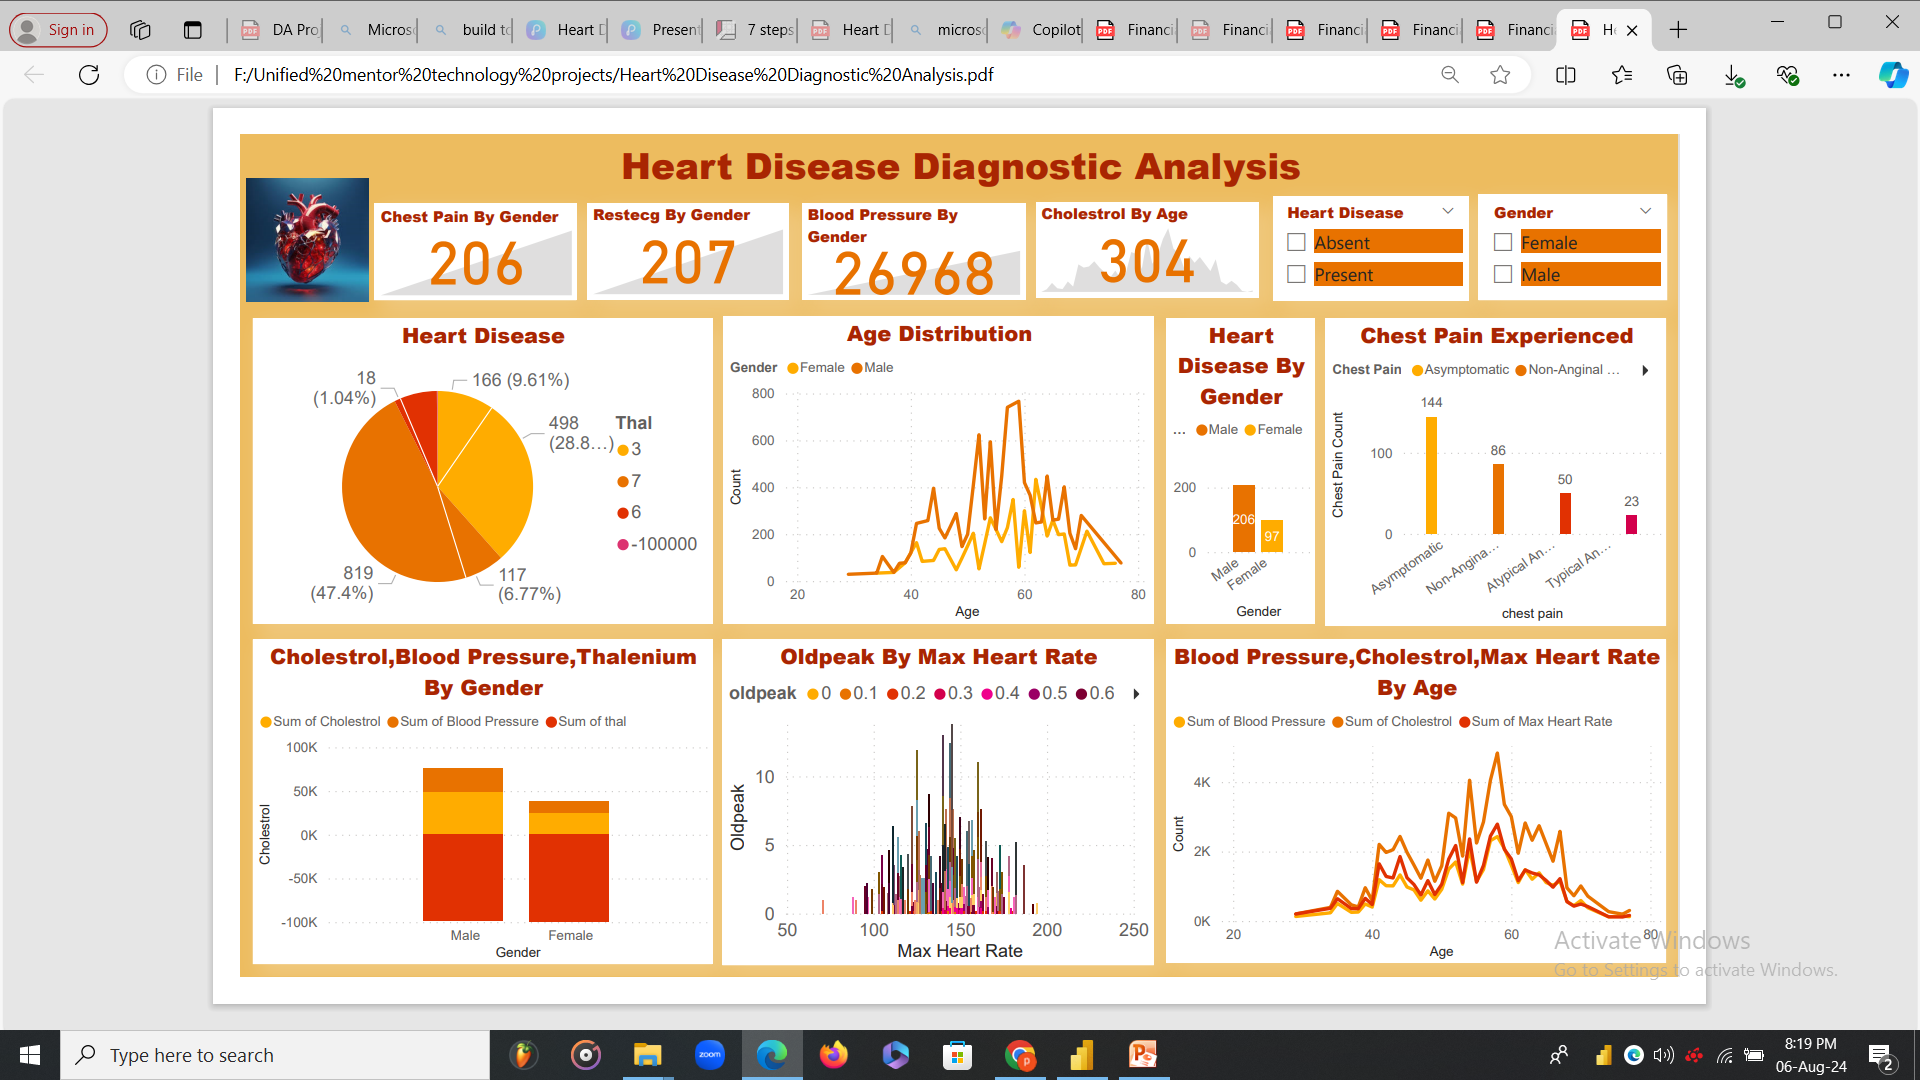

The dashboard page shown, as its layout file describes it:
{"tool":"powerbi","page":{"name":"Heart Disease  Analysis ","canvas":[1280,750],"ordinal":0},"visuals":[{"type":"slicer","fields":{"Values":[" Heart Disease Diagnostic Analysis .Gender"]},"box":[1102.3,54.3,167.6,94.1],"z":0},{"type":"textbox","box":[238,0,818.2,54.5],"z":1000},{"type":"image","box":[0,9.9,119,168.6],"z":2000},{"type":"slicer","fields":{"Values":[" Heart Disease Diagnostic Analysis .Heart Disease"]},"box":[918.6,54.5,174.8,93],"z":3000},{"type":"pieChart","title":"Heart Disease","fields":{"Y":["CountNonNull( Heart Disease Diagnostic Analysis .Heart Disease)","Sum( Heart Disease Diagnostic Analysis .thal)"],"Category":[" Heart Disease Diagnostic Analysis .thal"]},"box":[11.2,163.6,409.1,272.7],"z":4000},{"type":"lineChart","title":"Age Distribution","fields":{"Category":[" Heart Disease Diagnostic Analysis .age"],"Y":["Sum( Heart Disease Diagnostic Analysis .age)"],"Series":[" Heart Disease Diagnostic Analysis .Gender"]},"box":[430.2,162.4,383.1,274],"z":5000},{"type":"columnChart","title":"Heart Disease By Gender","fields":{"Category":[" Heart Disease Diagnostic Analysis .Gender"],"Y":["CountNonNull( Heart Disease Diagnostic Analysis .Heart Disease)"],"Series":[" Heart Disease Diagnostic Analysis .Gender"]},"box":[824.4,163.6,131.4,272.7],"z":6000},{"type":"clusteredColumnChart","title":"Chest Pain Experienced","fields":{"Category":[" Heart Disease Diagnostic Analysis .chest pain"],"Y":["CountNonNull( Heart Disease Diagnostic Analysis .Heart Disease)"],"Series":[" Heart Disease Diagnostic Analysis .chest pain"]},"box":[965.7,163.6,303.7,274],"z":7000},{"type":"columnChart","title":"Cholestrol,Blood Pressure,Thalenium By Gender","fields":{"Y":["Sum( Heart Disease Diagnostic Analysis .Cholestrol)","Sum( Heart Disease Diagnostic Analysis .Blood Pressure)","Sum( Heart Disease Diagnostic Analysis .thal)"],"Category":[" Heart Disease Diagnostic Analysis .Gender"]},"box":[11.2,450,409.1,288.8],"z":8000},{"type":"lineStackedColumnComboChart","title":" Oldpeak By Max Heart Rate ","fields":{"Category":[" Heart Disease Diagnostic Analysis .Max Heart Rate"],"Series":[" Heart Disease Diagnostic Analysis .oldpeak"],"Y":["Sum( Heart Disease Diagnostic Analysis .oldpeak)"]},"box":[428.9,450,384.3,290.1],"z":9000},{"type":"lineChart","title":"Blood Pressure,Cholestrol,Max Heart Rate By Age","fields":{"Category":[" Heart Disease Diagnostic Analysis .age"],"Y":["Sum( Heart Disease Diagnostic Analysis .Blood Pressure)","Sum( Heart Disease Diagnostic Analysis .Cholestrol)","Sum( Heart Disease Diagnostic Analysis .Max Heart Rate)"]},"box":[824.4,450,445,287.6],"z":10000},{"type":"kpi","title":"Cholestrol By Age","fields":{"Indicator":["Sum( Heart Disease Diagnostic Analysis .Cholestrol)"],"TrendLine":[" Heart Disease Diagnostic Analysis .age"]},"box":[707.9,60.7,198.3,85.5],"z":11000},{"type":"kpi","title":"Chest Pain By Gender","fields":{"Indicator":["CountNonNull( Heart Disease Diagnostic Analysis .chest pain)"],"TrendLine":[" Heart Disease Diagnostic Analysis .Gender"]},"box":[119,62,179.8,85.5],"z":12000},{"type":"kpi","title":" Restecg By Gender","fields":{"TrendLine":[" Heart Disease Diagnostic Analysis .Gender"],"Indicator":["Sum( Heart Disease Diagnostic Analysis .restecg)"]},"box":[308.7,62,179.8,85.5],"z":13000},{"type":"kpi","title":" Blood Pressure By Gender","fields":{"TrendLine":[" Heart Disease Diagnostic Analysis .Gender"],"Indicator":["Sum( Heart Disease Diagnostic Analysis .Blood Pressure)"]},"box":[499.6,62,199.6,85.5],"z":14000}]}

Visuals, with their boxes on the page's 1280x750 design canvas (x1, y1, x2, y2). These are canvas units, not pixel positions in the 1920x1080 screenshot, which may show the page scaled, cropped or inside an application window:
slicer -  Heart Disease Diagnostic Analysis .Gender: (1102, 54, 1270, 148)
textbox: (238, 0, 1056, 54)
image: (0, 10, 119, 178)
slicer -  Heart Disease Diagnostic Analysis .Heart Disease: (919, 54, 1093, 148)
"Heart Disease" pieChart: (11, 164, 420, 436)
"Age Distribution" lineChart: (430, 162, 813, 436)
"Heart Disease By Gender" columnChart: (824, 164, 956, 436)
"Chest Pain Experienced" clusteredColumnChart: (966, 164, 1269, 438)
"Cholestrol,Blood Pressure,Thalenium By Gender" columnChart: (11, 450, 420, 739)
" Oldpeak By Max Heart Rate " lineStackedColumnComboChart: (429, 450, 813, 740)
"Blood Pressure,Cholestrol,Max Heart Rate By Age" lineChart: (824, 450, 1269, 738)
"Cholestrol By Age" kpi: (708, 61, 906, 146)
"Chest Pain By Gender" kpi: (119, 62, 299, 148)
" Restecg By Gender" kpi: (309, 62, 488, 148)
" Blood Pressure By Gender" kpi: (500, 62, 699, 148)
